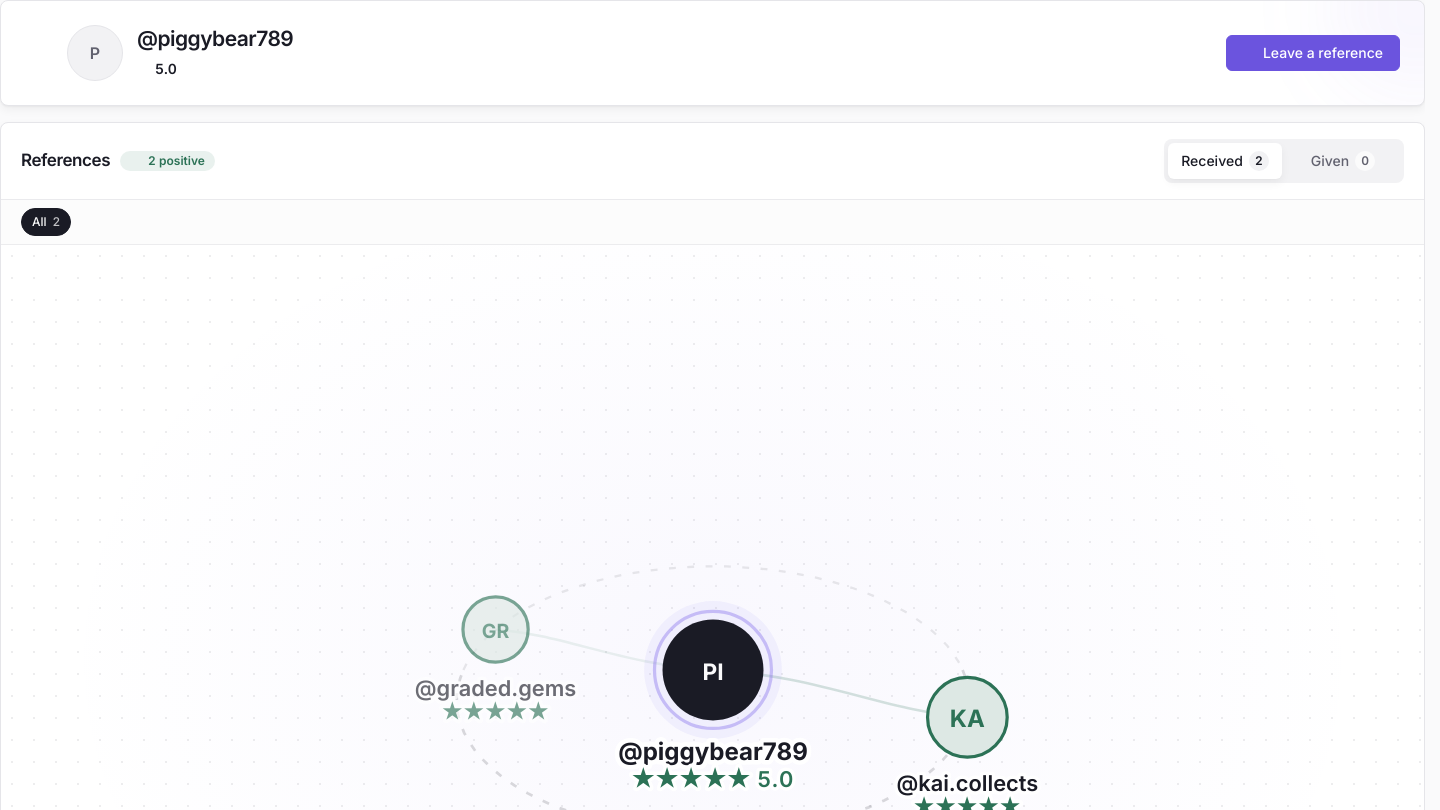
Test: ReferenceProfile › keeps the page where it is when opening someone, since their page is laid out the same
Press Enter in the button "@kai.collects, 41 references", box [949,704,984,733]
(page scrolled)
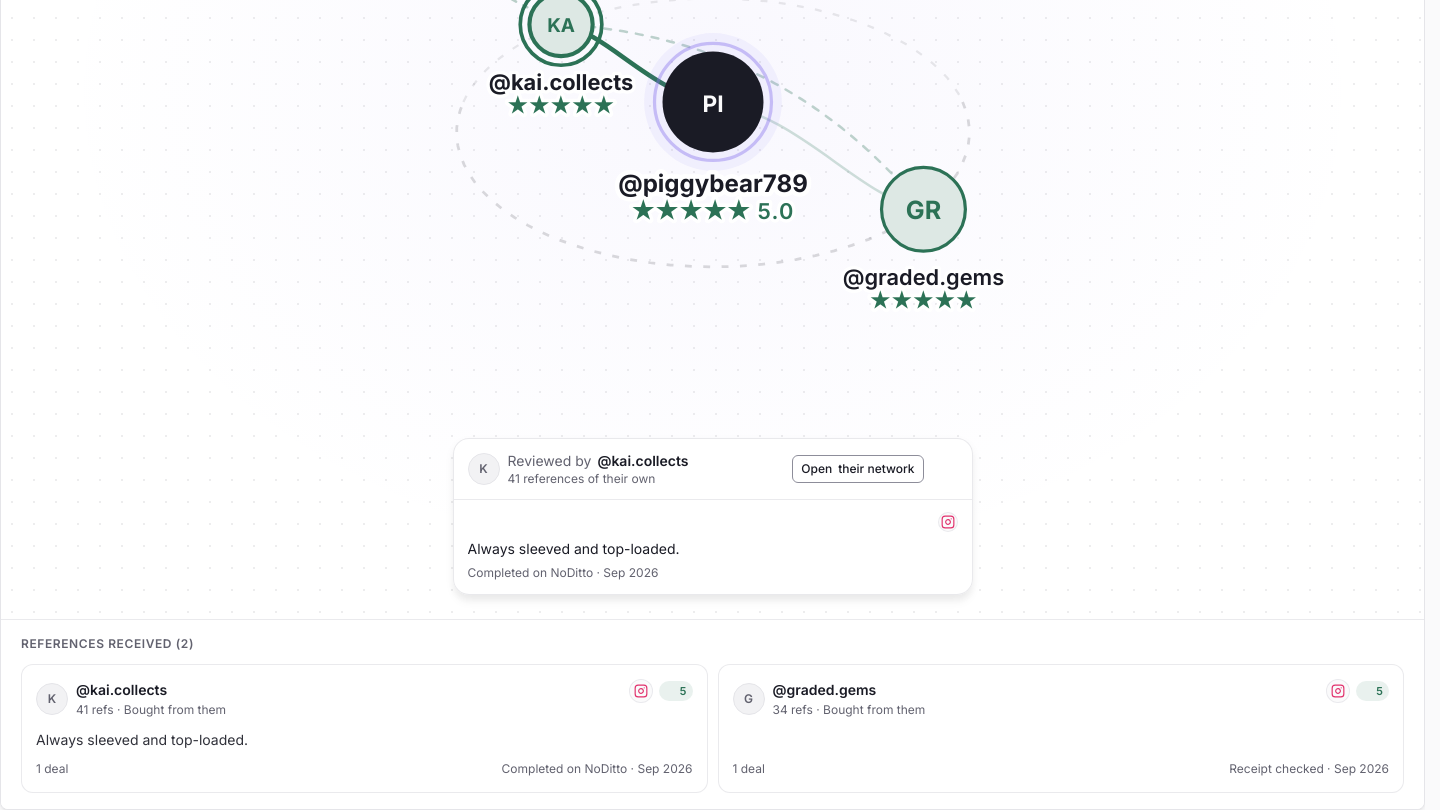
Click the button "Open their network".
click(858, 469)  # box [792,455,924,483]
(page scrolled)
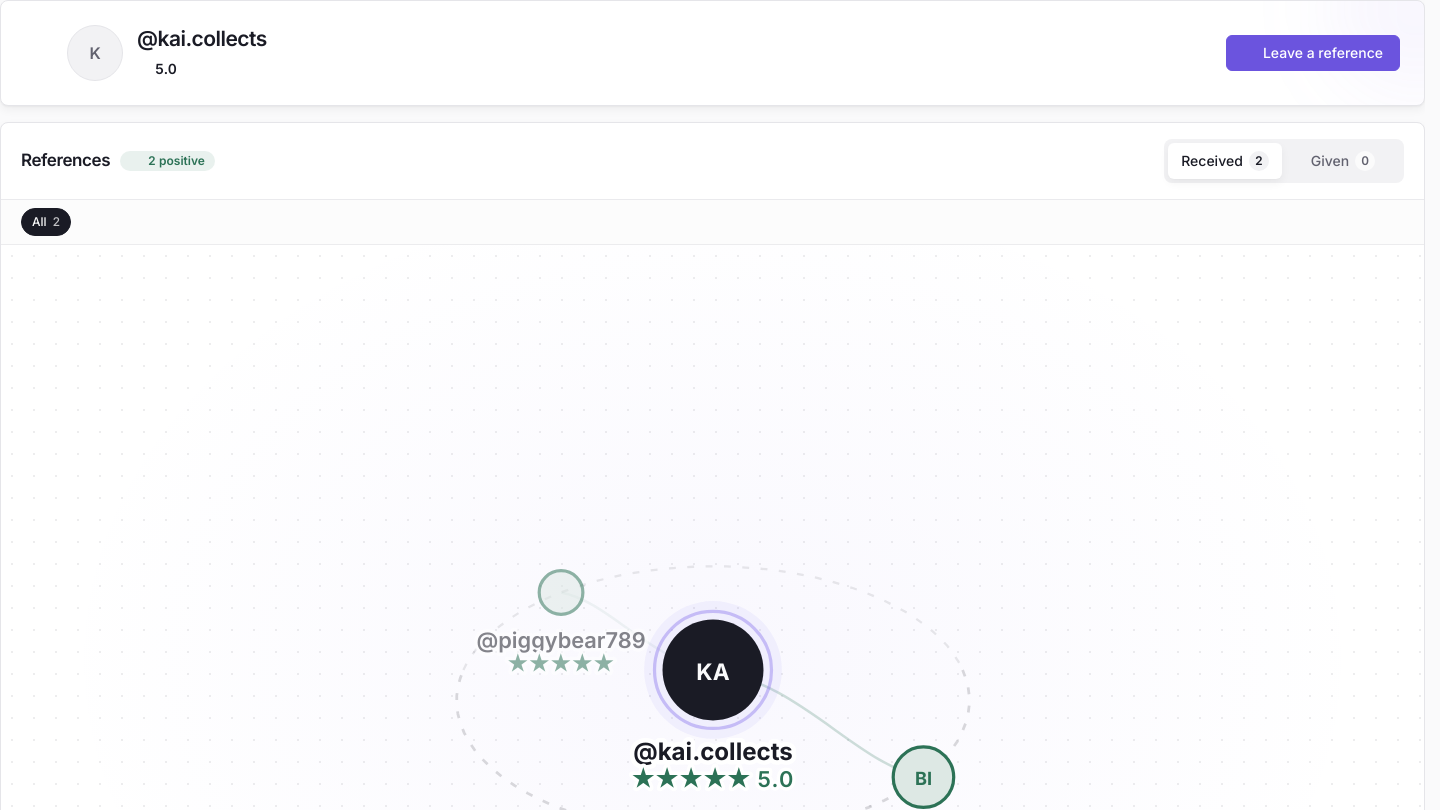
Expected: the heading "@kai.collects" is shown, [137,26,267,52]
